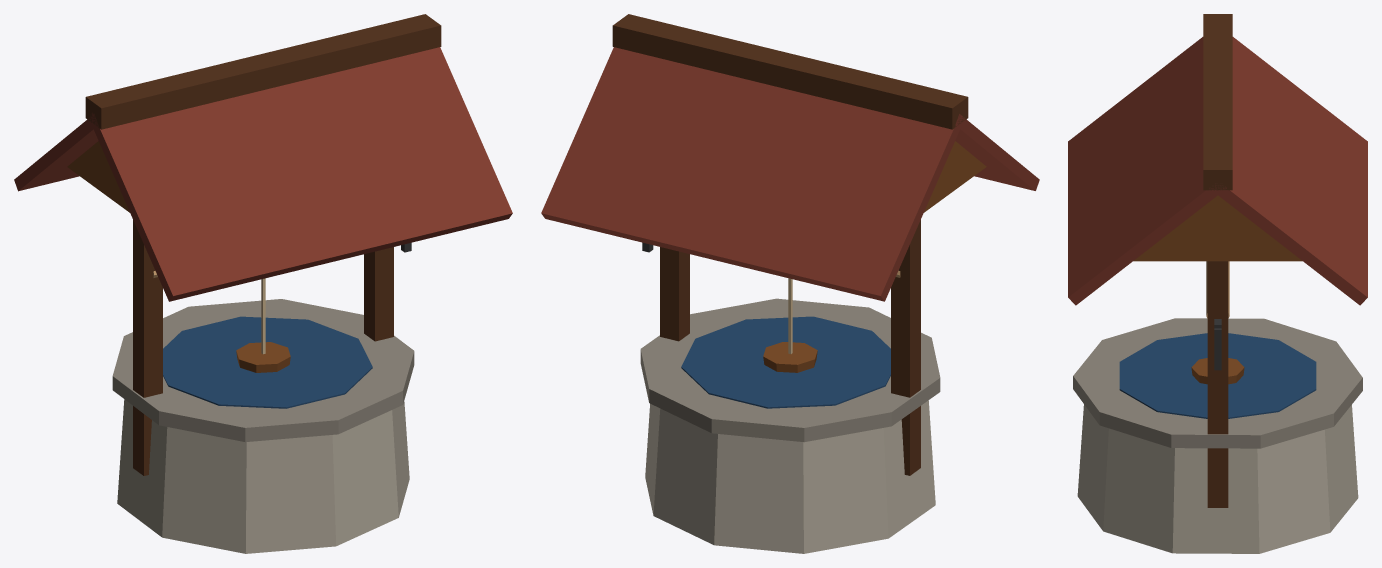
The model's file is Prop_Well.fbx.
3 views of the same model, side by side, from view 1: azimuth 30°, elevation 25°; view 2: azimuth 150°, elevation 25°; view 3: azimuth 270°, elevation 25° (orthographic). The views are drawn at different scales.
Visible parts, largest first — view 1: Prop_Well; view 2: Prop_Well; view 3: Prop_Well.
Boxes of the visible parts, x1,y1,x2,y2 form: Prop_Well: (14, 14, 512, 553); Prop_Well: (541, 14, 1039, 553); Prop_Well: (1068, 14, 1367, 553).
Bounding box in the file's own units: 2.5 × 3.03 × 2.03.
